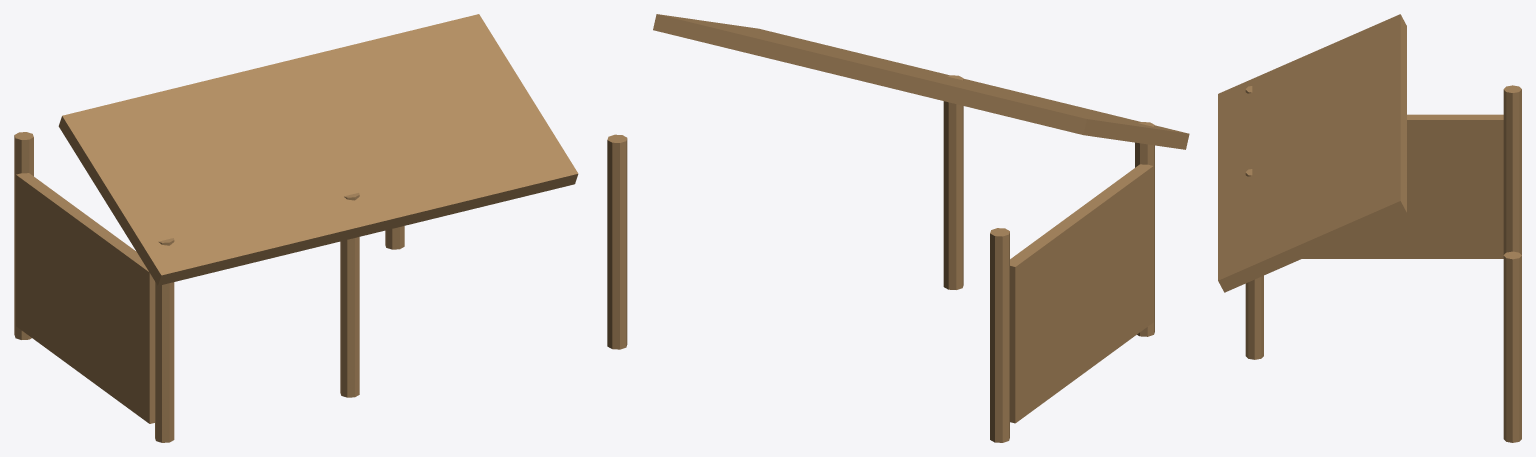
Rendered from StarterBuilding_Decay_00.fbx.
3 views of the same model, side by side, from view 1: azimuth 30°, elevation 25°; view 2: azimuth 150°, elevation 25°; view 3: azimuth 270°, elevation 25° (orthographic). The views are drawn at different scales.
Visible parts, largest first — view 1: StarterBuilding_Decay_00; view 2: StarterBuilding_Decay_00; view 3: StarterBuilding_Decay_00.
Part boxes in pixels (x1,y1,x2,y2): StarterBuilding_Decay_00: [14, 14, 578, 442]; StarterBuilding_Decay_00: [607, 14, 1189, 442]; StarterBuilding_Decay_00: [1218, 14, 1521, 442].
Bounding box in the file's own units: 3.6 × 2.23 × 2.47.
